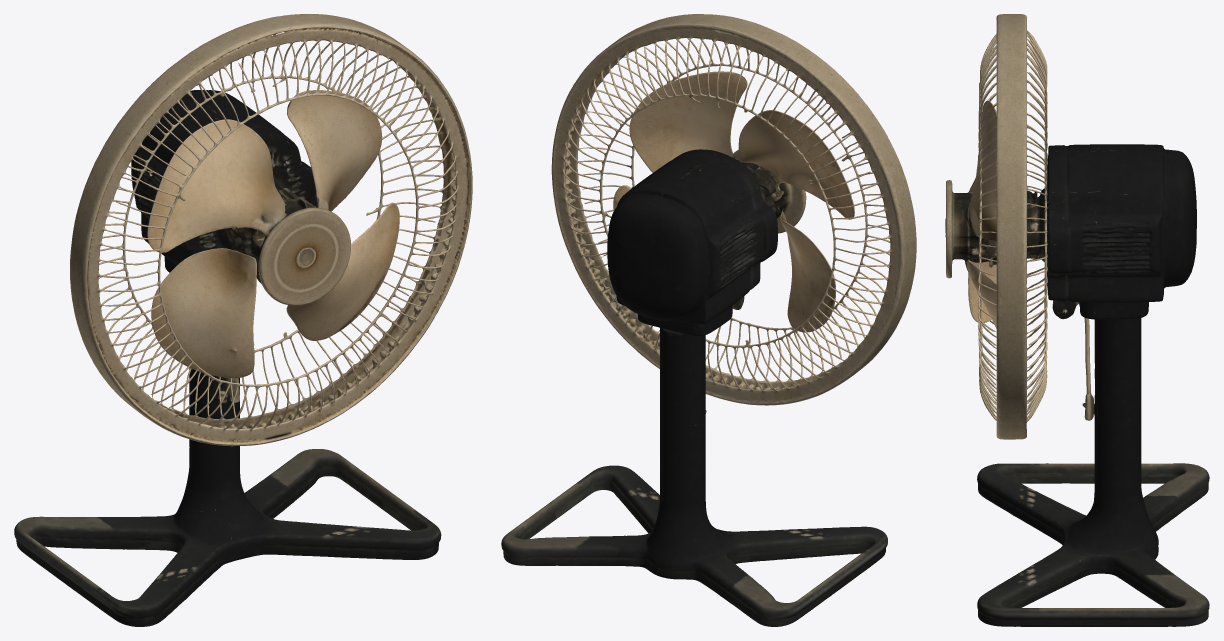
File: Fan.fbx
3 renders of one model, left to right at view 1: azimuth 30°, elevation 25°; view 2: azimuth 150°, elevation 25°; view 3: azimuth 270°, elevation 25°, orthographic. The views are drawn at different scales.
Visible parts, largest first — view 1: Fan_Base, Fan_Blades; view 2: Fan_Base, Fan_Blades; view 3: Fan_Base, Fan_Blades.
Part boxes in pixels (x1=…): Fan_Base: x1=14, y1=14, x2=472, y2=626; Fan_Blades: x1=147, y1=90, x2=399, y2=378; Fan_Base: x1=501, y1=14, x2=916, y2=626; Fan_Blades: x1=613, y1=71, x2=854, y2=332; Fan_Base: x1=977, y1=14, x2=1209, y2=626; Fan_Blades: x1=945, y1=101, x2=1040, y2=328.
Size of the model in its own units: 139 by 190 by 87.31.
